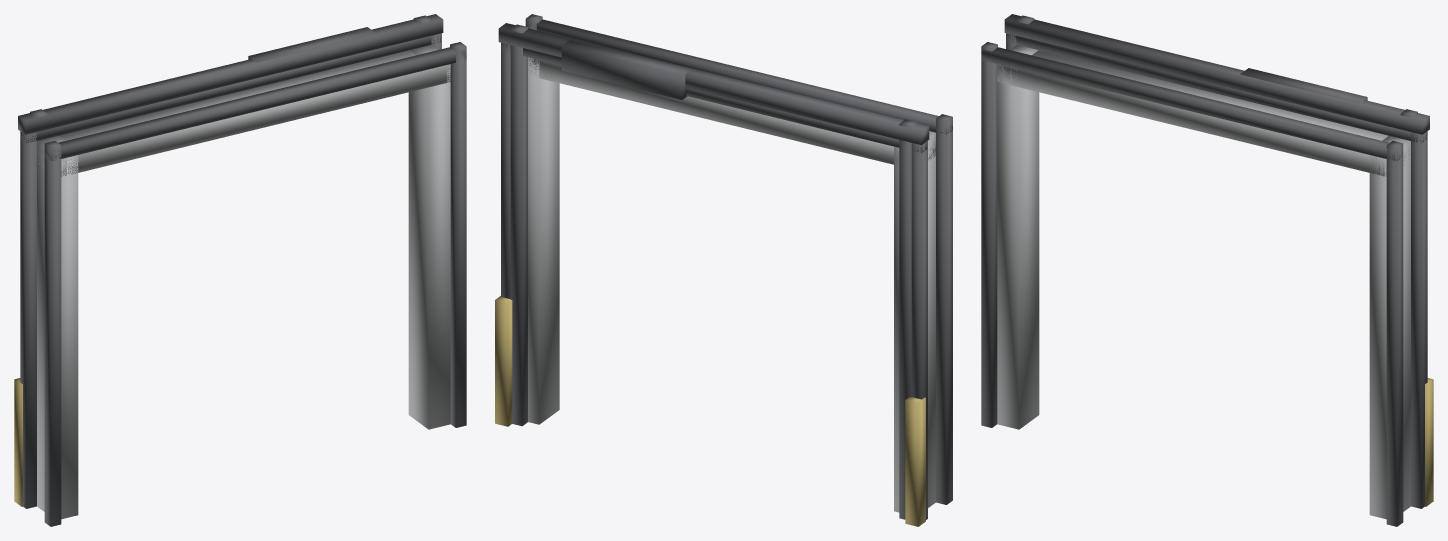
Rendered from bay_opening_loading_bay_w300_h280_d30.glb.
The picture shows the model from 3 angles, left to right: view 1: azimuth 30°, elevation 25°; view 2: azimuth 150°, elevation 25°; view 3: azimuth 330°, elevation 25°; orthographic projection.
Visible parts, largest first — view 1: world; view 2: world; view 3: world.
Part boxes in pixels (x1=…): world: x1=14, y1=14, x2=466, y2=526; world: x1=495, y1=14, x2=952, y2=526; world: x1=981, y1=14, x2=1433, y2=526.
Size of the model in its own units: 3.58 by 3.19 by 0.522.
